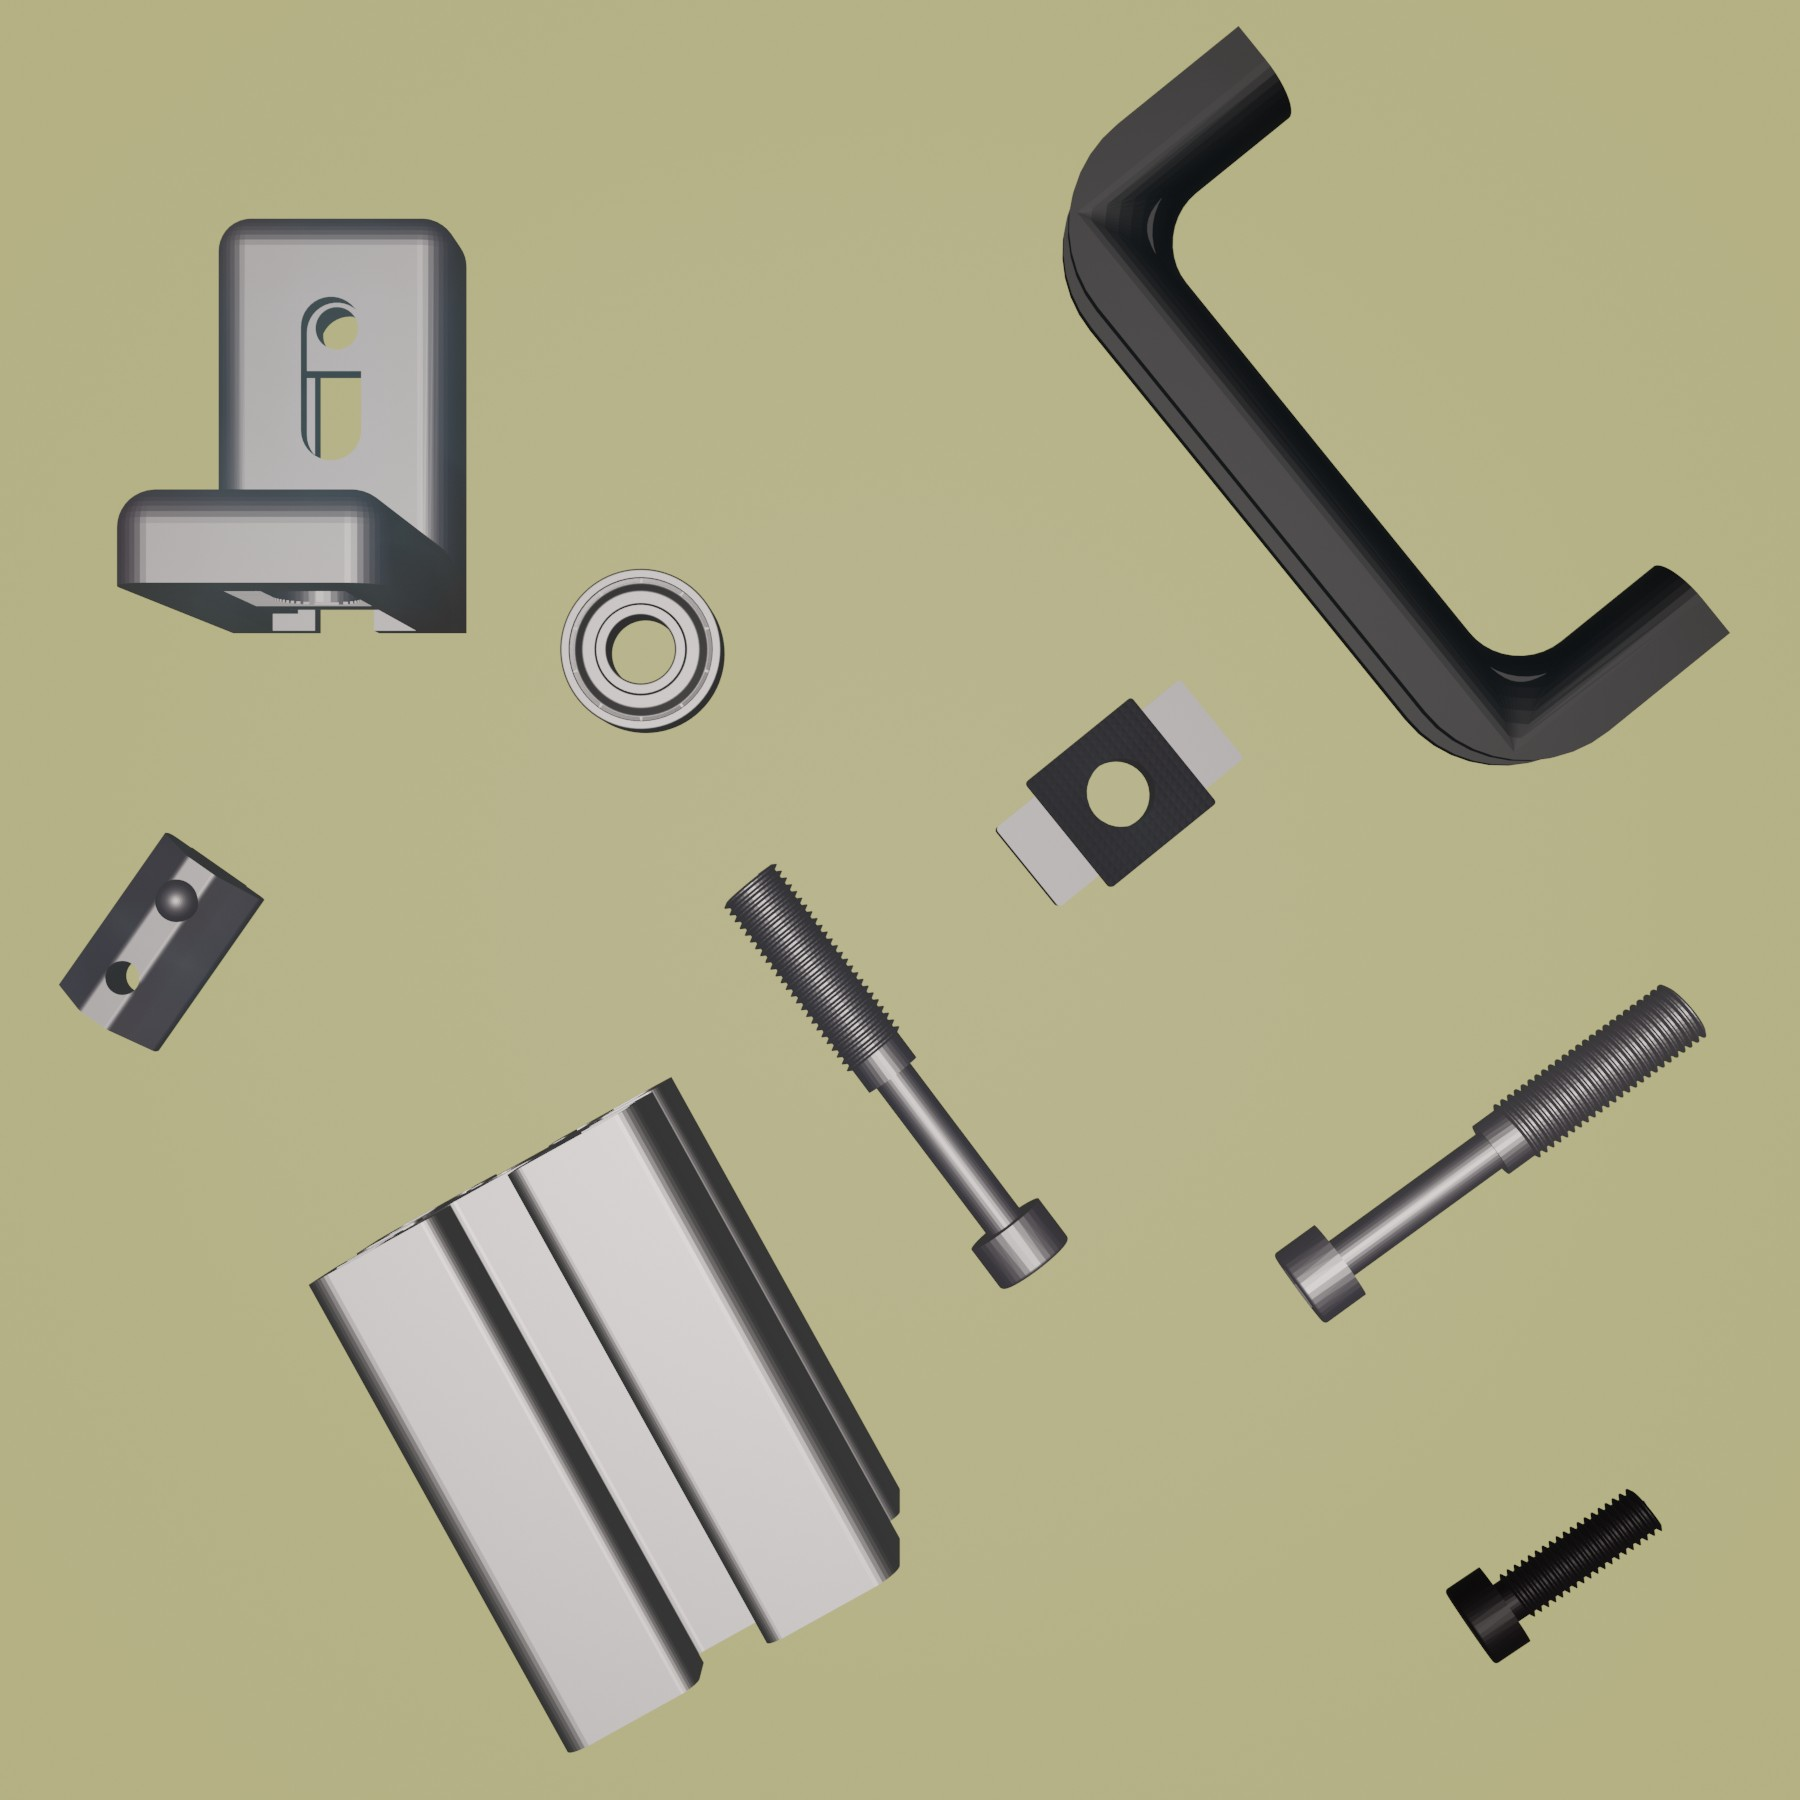Aluminium Extension: (308, 1075, 907, 1755)
Ball Bearing: (559, 565, 727, 734)
Multiwinkel: (114, 213, 470, 638)
Pull Handle: (1058, 25, 1732, 768)
Shoulder Socket Head Cap Screw: (720, 860, 1070, 1291), (1274, 981, 1708, 1322)
Socket Head Cap Screw: (1442, 1488, 1665, 1666)
T Nut Square: (986, 677, 1251, 907)
T Spring Nut: (56, 827, 262, 1053)
